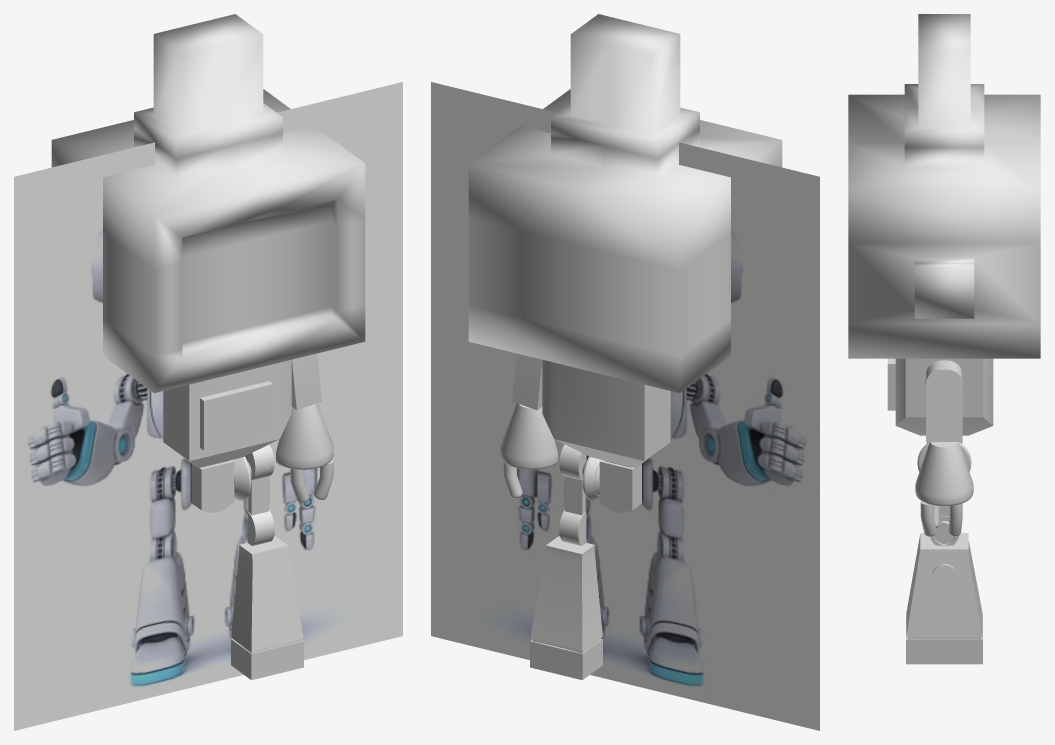
The model's file is robot.glb.
3 renders of one model, left to right at view 1: azimuth 30°, elevation 25°; view 2: azimuth 150°, elevation 25°; view 3: azimuth 270°, elevation 25°, orthographic. The views are drawn at different scales.
Visible parts, largest first — view 1: スクリーンショット 2022-06-30 160337, Cube.002, Cube, Cube.004, Cylinder, Cube.001, Box.001, Cylinder.003, Cylinder.002, Cube.003, Cylinder.001; view 2: スクリーンショット 2022-06-30 160337, Cube.002, Cube, Cube.004, Cylinder, Cube.001, Box.001, Cylinder.003, Cylinder.002, Cube.003, Cylinder.001; view 3: Cube.002, Cube.004, Cube, Cylinder, Box.001, Cylinder.003, Circle.004, Circle.005, Circle.006.
Boxes of the visible parts, bbox=[...] form: スクリーンショット 2022-06-30 160337: bbox=[14, 82, 402, 730]; Cube.002: bbox=[51, 14, 365, 393]; Cube: bbox=[163, 360, 291, 467]; Cube.004: bbox=[231, 536, 303, 680]; Cylinder: bbox=[276, 403, 333, 469]; Cube.001: bbox=[192, 460, 234, 512]; Box.001: bbox=[291, 353, 321, 410]; Cylinder.003: bbox=[247, 510, 274, 545]; Cylinder.002: bbox=[247, 444, 274, 480]; Cube.003: bbox=[248, 476, 268, 515]; Cylinder.001: bbox=[232, 456, 251, 500]; スクリーンショット 2022-06-30 160337: bbox=[431, 82, 819, 730]; Cube.002: bbox=[468, 14, 782, 393]; Cube: bbox=[542, 360, 670, 467]; Cube.004: bbox=[530, 536, 602, 680]; Cylinder: bbox=[500, 403, 557, 469]; Cube.001: bbox=[599, 460, 641, 512]; Box.001: bbox=[512, 353, 542, 410]; Cylinder.003: bbox=[559, 510, 586, 545]; Cylinder.002: bbox=[559, 444, 586, 480]; Cube.003: bbox=[565, 476, 585, 515]; Cylinder.001: bbox=[582, 456, 601, 500]; Cube.002: bbox=[848, 14, 1040, 358]; Cube.004: bbox=[906, 533, 982, 664]; Cube: bbox=[887, 358, 993, 435]; Cylinder: bbox=[915, 442, 973, 506]; Box.001: bbox=[926, 360, 962, 441]; Cylinder.003: bbox=[930, 516, 959, 545]; Circle.004: bbox=[932, 564, 956, 587]; Circle.005: bbox=[920, 501, 936, 536]; Circle.006: bbox=[948, 503, 962, 536].
Size of the model in its own units: 0.7339 by 1.17 by 0.3355.
4 materials, 1 textured.
